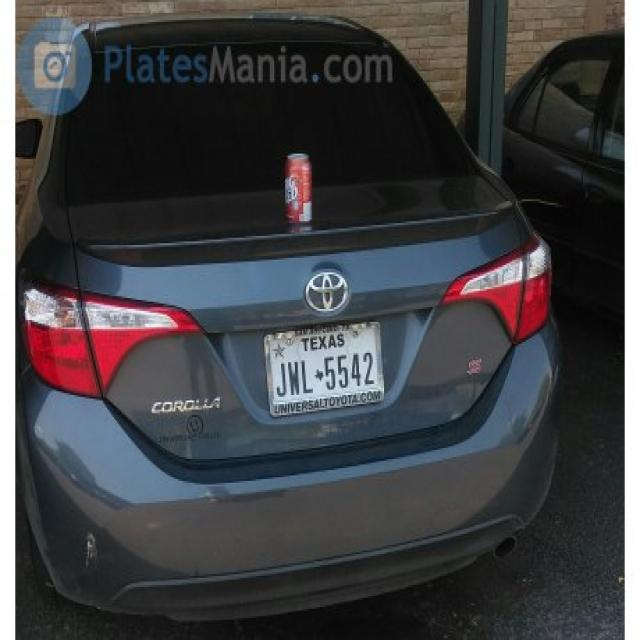Number-Plate: (268, 330, 381, 412)
